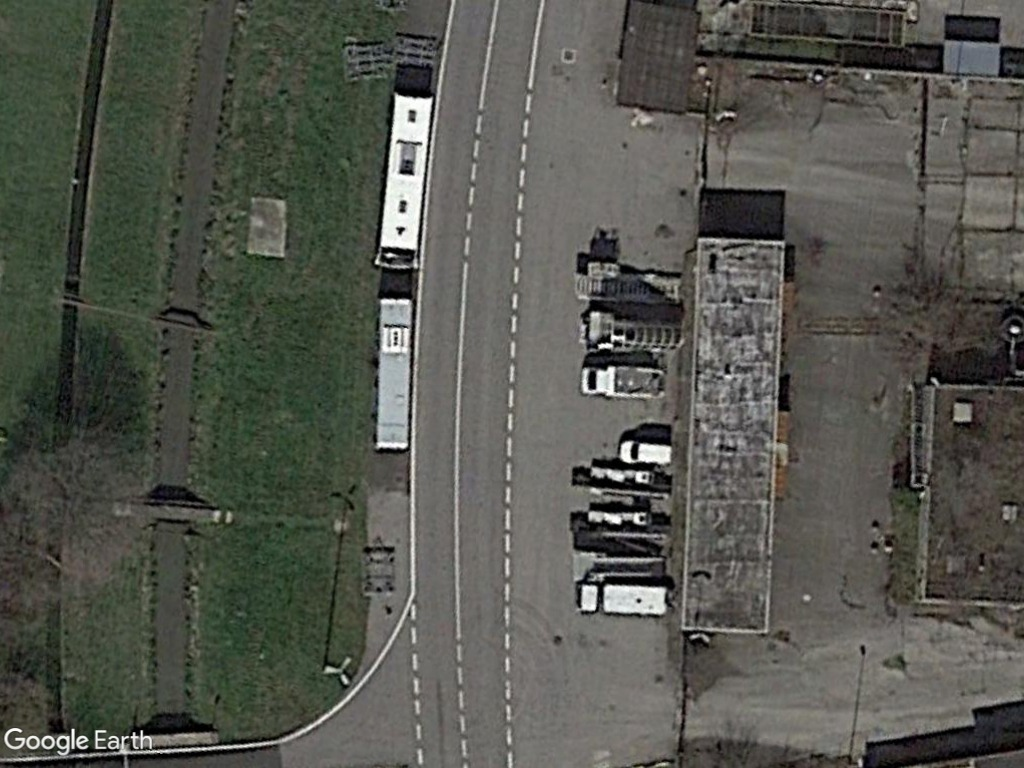bus: (373, 87, 441, 270), (369, 294, 418, 454)
other: (577, 357, 672, 401)
stairtruck: (575, 259, 687, 307)
van: (574, 577, 674, 618), (617, 435, 677, 467)
